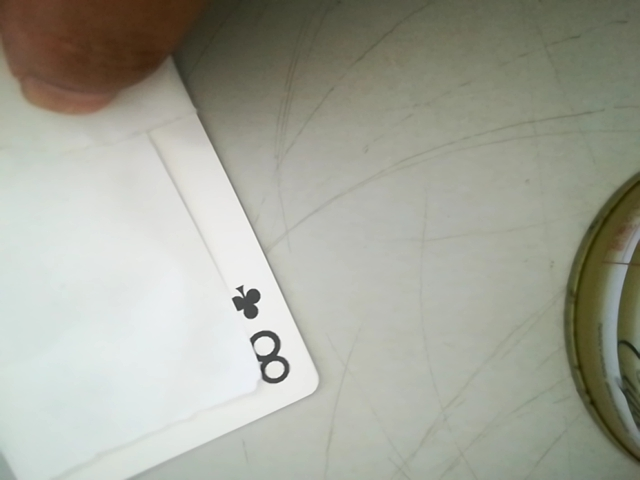mh 8: (220, 267, 296, 392)
